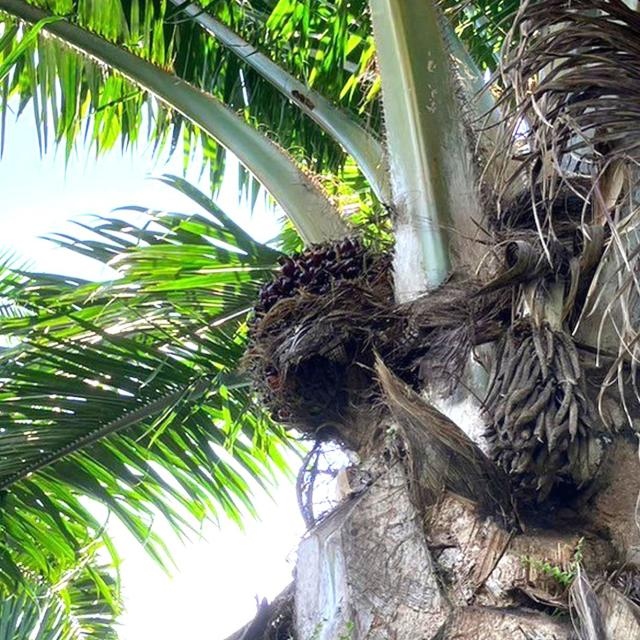ripe: (244, 236, 390, 427)
